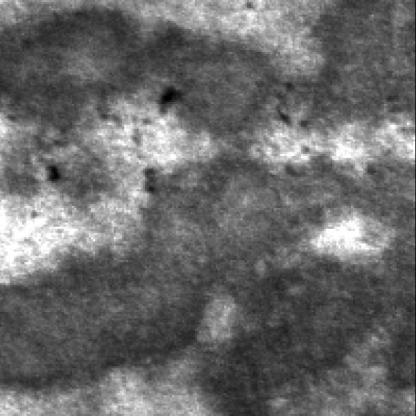patches: (133, 141, 414, 294), (0, 10, 271, 157), (0, 241, 225, 404), (179, 279, 399, 416), (281, 9, 414, 137)
